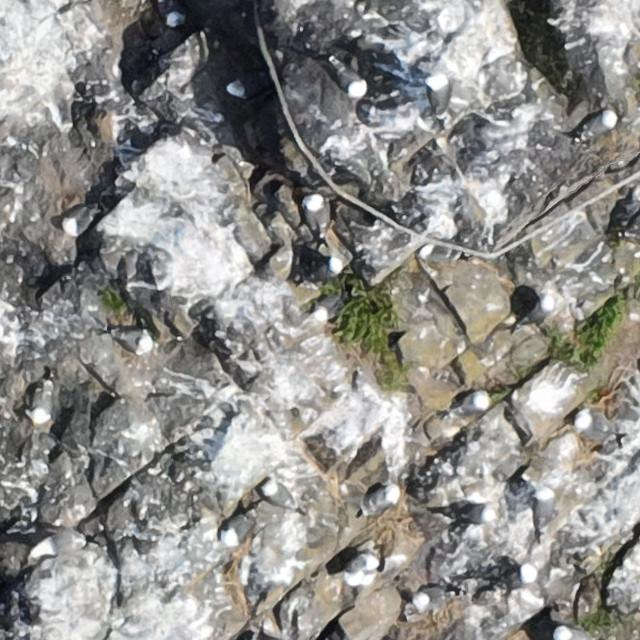umineko: (576, 410, 619, 442), (344, 551, 381, 586), (521, 294, 554, 332), (262, 479, 300, 512), (496, 565, 536, 594), (224, 512, 256, 546), (226, 72, 267, 98), (531, 488, 553, 536), (334, 66, 364, 96), (582, 111, 614, 138), (429, 77, 449, 118), (304, 195, 326, 232), (112, 330, 148, 352), (551, 622, 594, 640), (365, 488, 397, 512), (62, 210, 91, 236), (456, 394, 487, 414), (313, 257, 340, 279), (31, 389, 49, 422), (417, 588, 449, 606), (458, 506, 491, 522), (162, 3, 181, 26)
